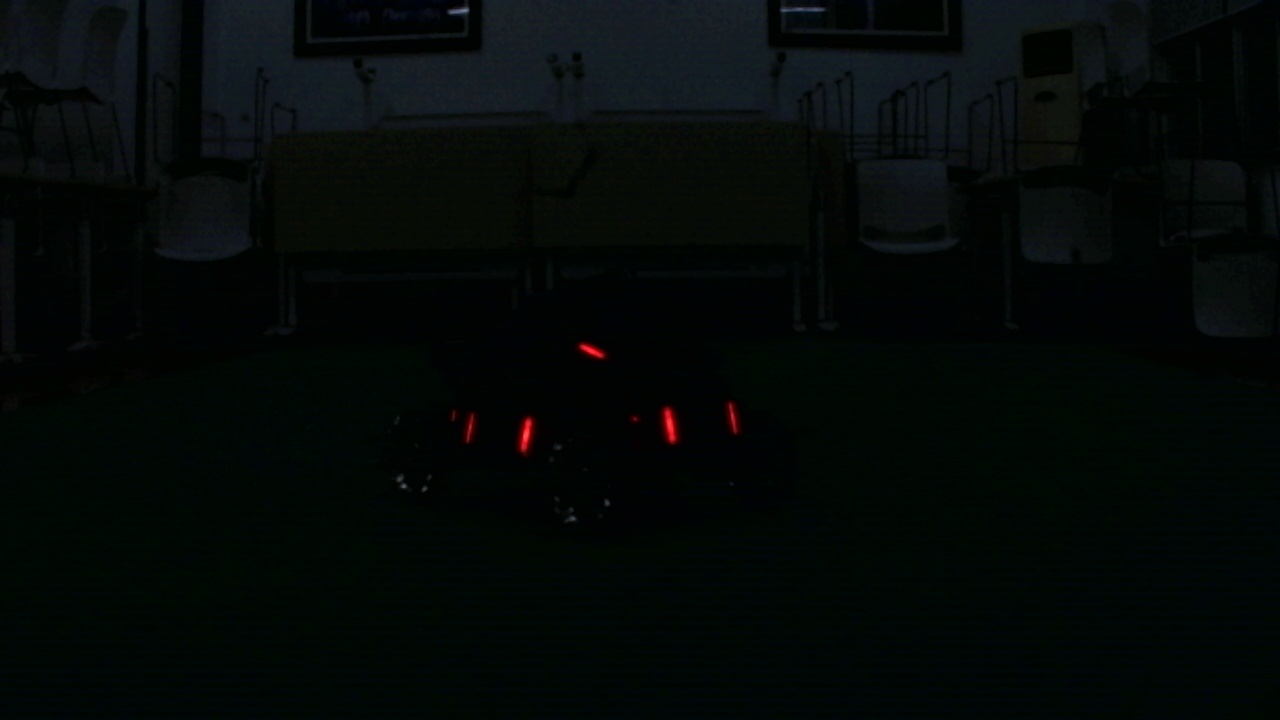lamp: (660, 402, 676, 446), (518, 415, 535, 450)
pair1: (655, 402, 738, 442), (462, 409, 537, 452), (724, 397, 743, 432), (465, 408, 476, 445)
